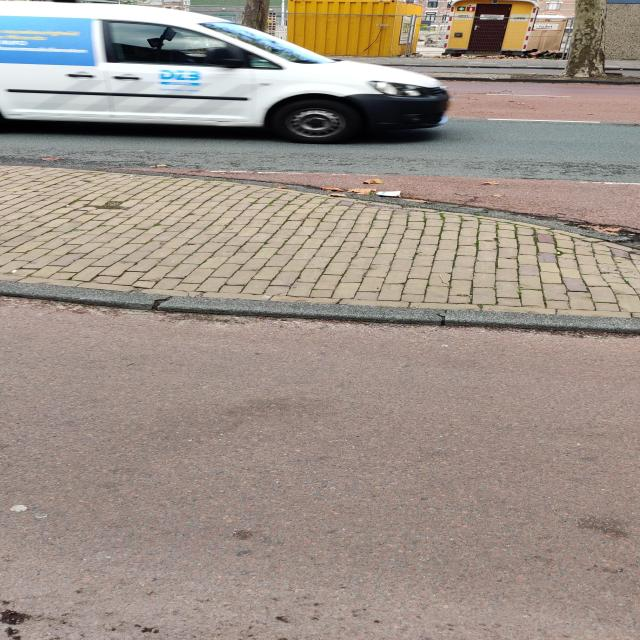litter: (380, 191, 399, 197)
